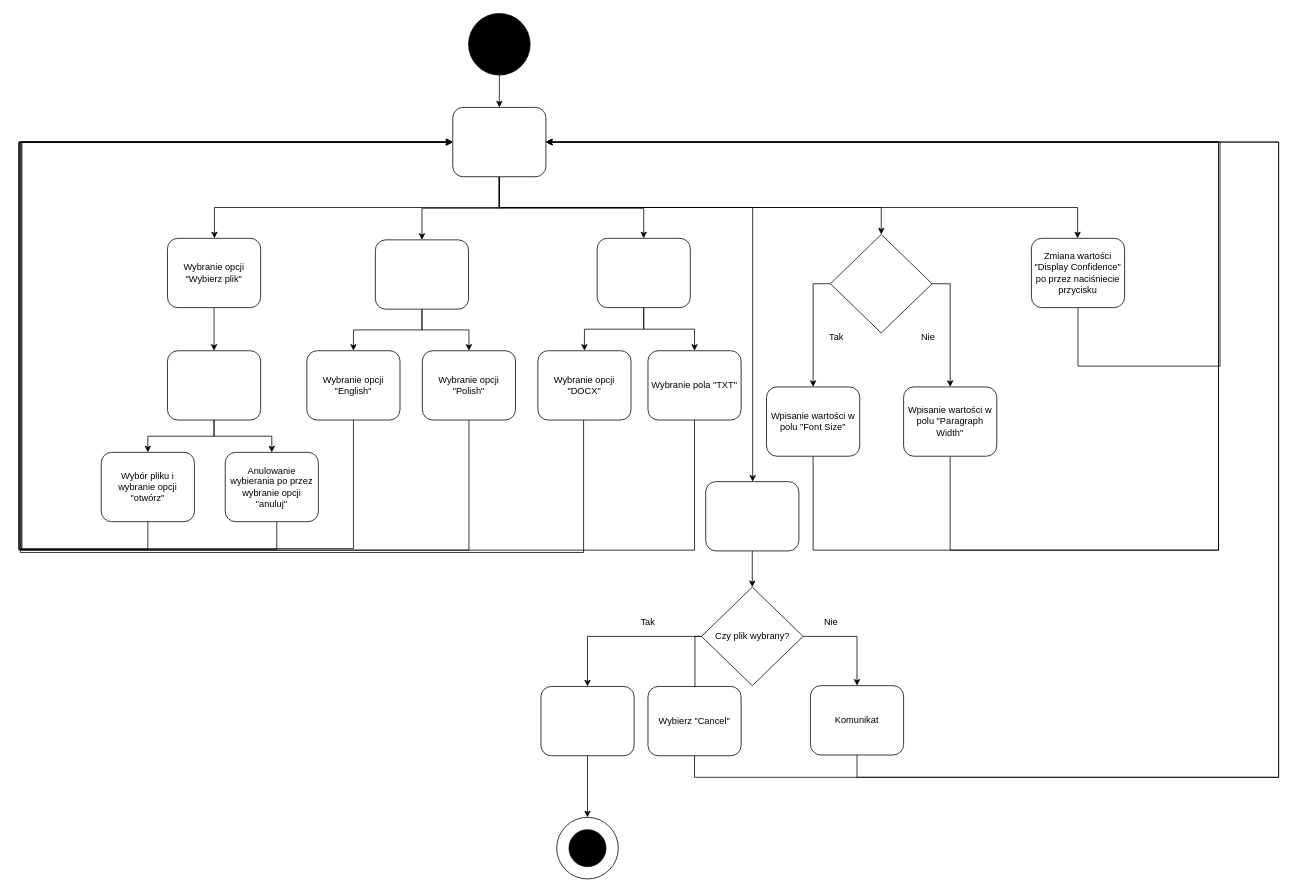
Some shapes in this 1298 by 892 pixel diagram are drawn without their labels. The centre of each missing label's shape, as x and y in pixels:
Export Format to "DOCX"?: [881,283]
Formularz upload file: [499,142]
Naciśnięcie przycisku "Upload": [752,516]
Przejście do okna wyboru pliku z komputera: [214,385]
Wybierz "Continue": [587,721]
Wybranie pola rozwijanego "Export Format": [643,273]
Wybranie pola rozwijanego "Language": [422,274]
